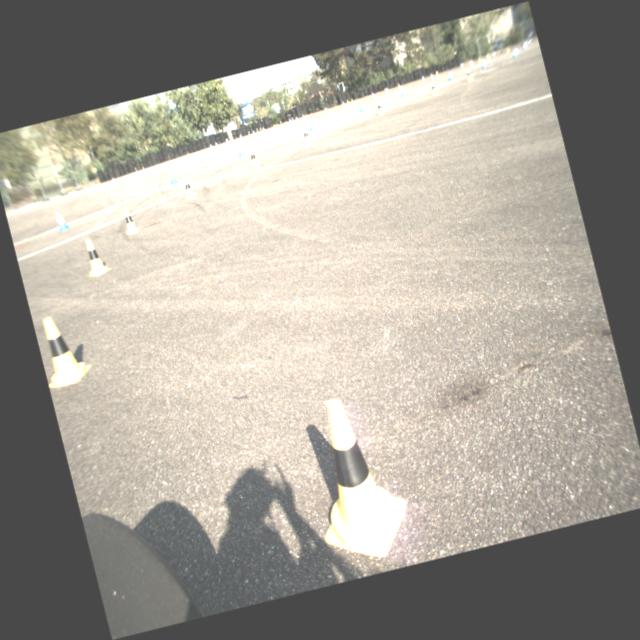blue_cone: (54, 210, 70, 231), (167, 168, 178, 184), (236, 142, 244, 156), (306, 118, 314, 130), (356, 100, 364, 112), (399, 86, 406, 97), (447, 70, 452, 80), (481, 60, 486, 69), (511, 48, 516, 57), (468, 60, 473, 68), (430, 72, 434, 80), (288, 118, 292, 125), (252, 129, 256, 136), (225, 137, 229, 144), (522, 43, 526, 50), (370, 92, 374, 98), (209, 142, 213, 148), (341, 100, 345, 106), (238, 133, 242, 138), (214, 141, 218, 146), (262, 126, 266, 131), (294, 115, 298, 120), (324, 108, 328, 112), (492, 52, 494, 58), (422, 76, 424, 80)
yellow_cone: (292, 388, 418, 570), (33, 310, 94, 389), (78, 234, 112, 277), (118, 205, 140, 235), (180, 176, 198, 200), (248, 148, 260, 166), (301, 127, 312, 144), (374, 99, 384, 114), (428, 80, 438, 94), (464, 68, 472, 80), (434, 70, 440, 80), (383, 88, 388, 96), (346, 99, 350, 107), (259, 126, 263, 134), (396, 82, 401, 88), (290, 116, 294, 123), (485, 55, 489, 62), (505, 48, 509, 53), (256, 128, 259, 134), (247, 130, 250, 136), (477, 58, 481, 62), (351, 98, 354, 103)
